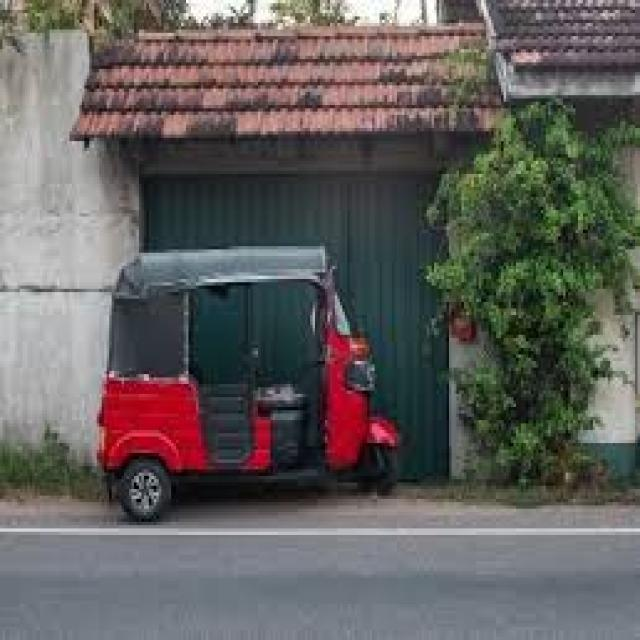tuktuk: (73, 195, 441, 536)
